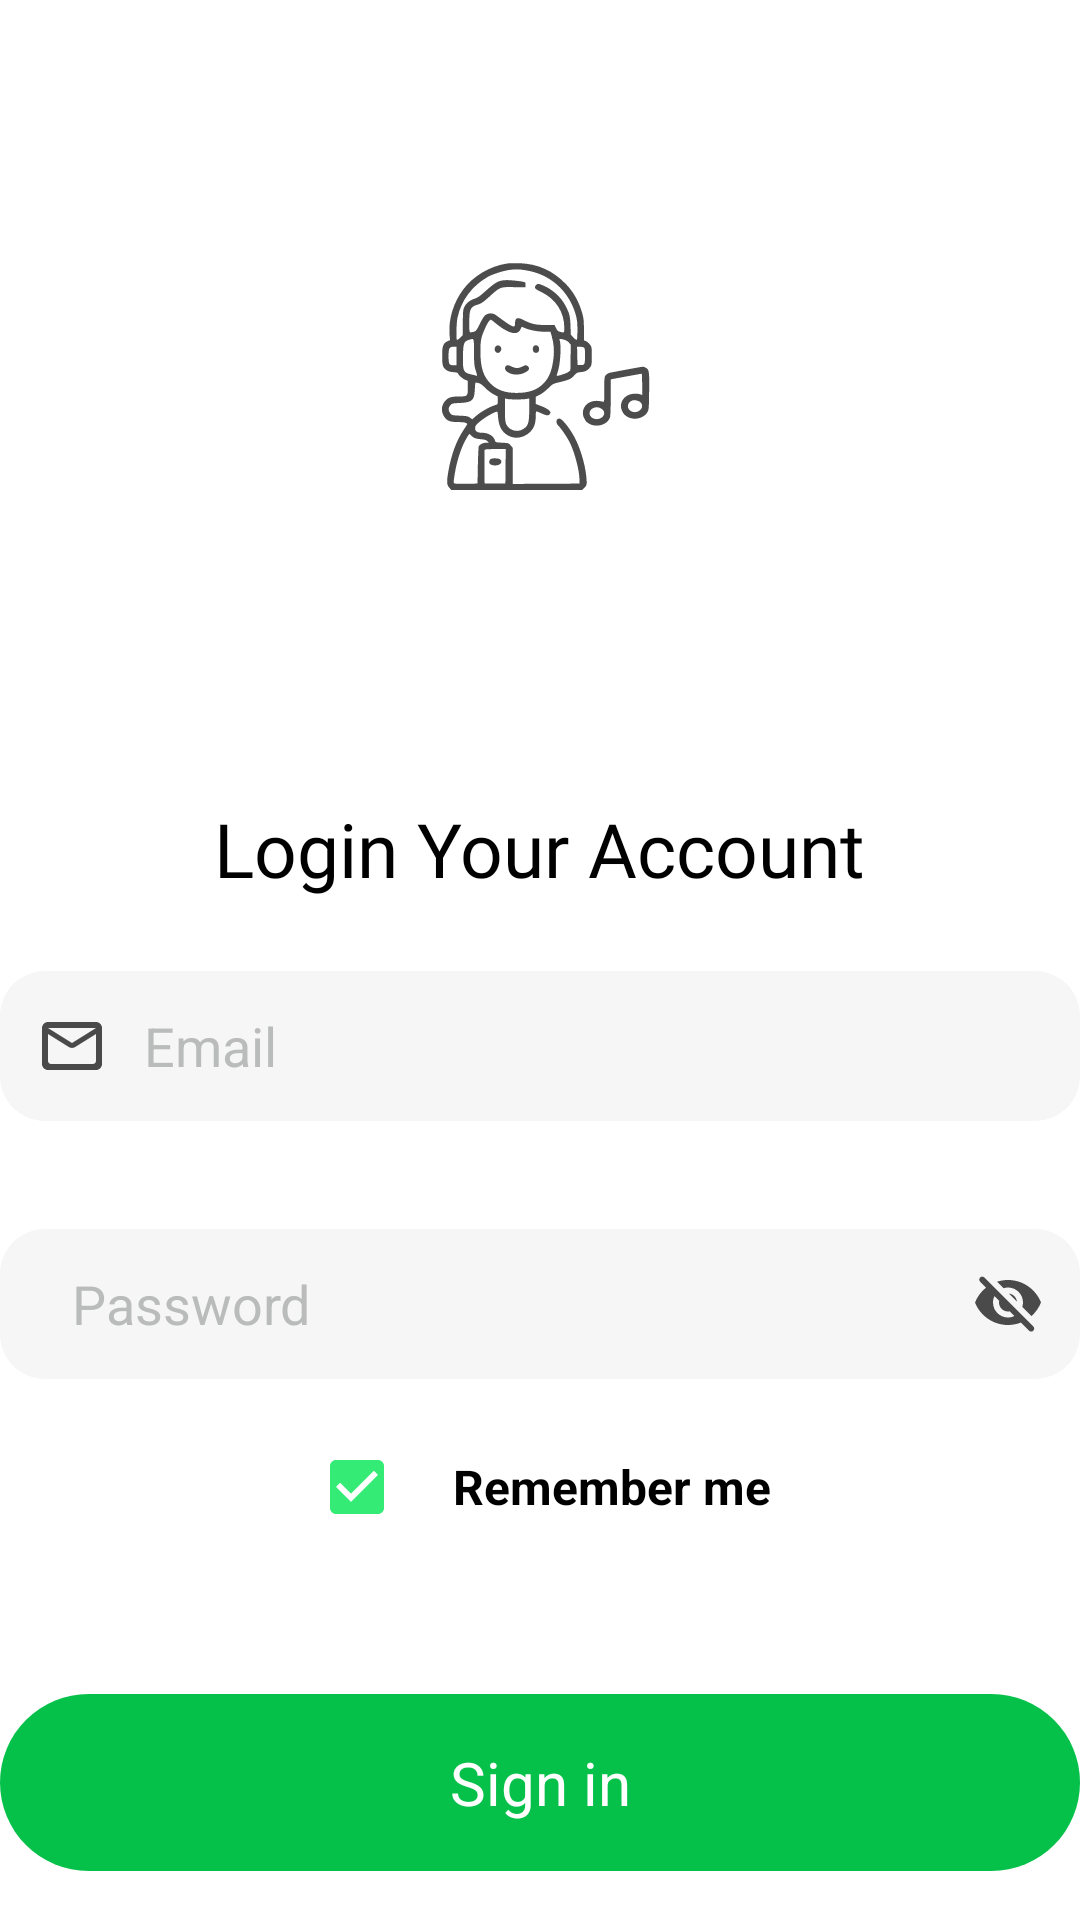

Icons on this 1080×1920 Android screen, each with the point to tap as (x,y):
hide pass: (1008,1304)
